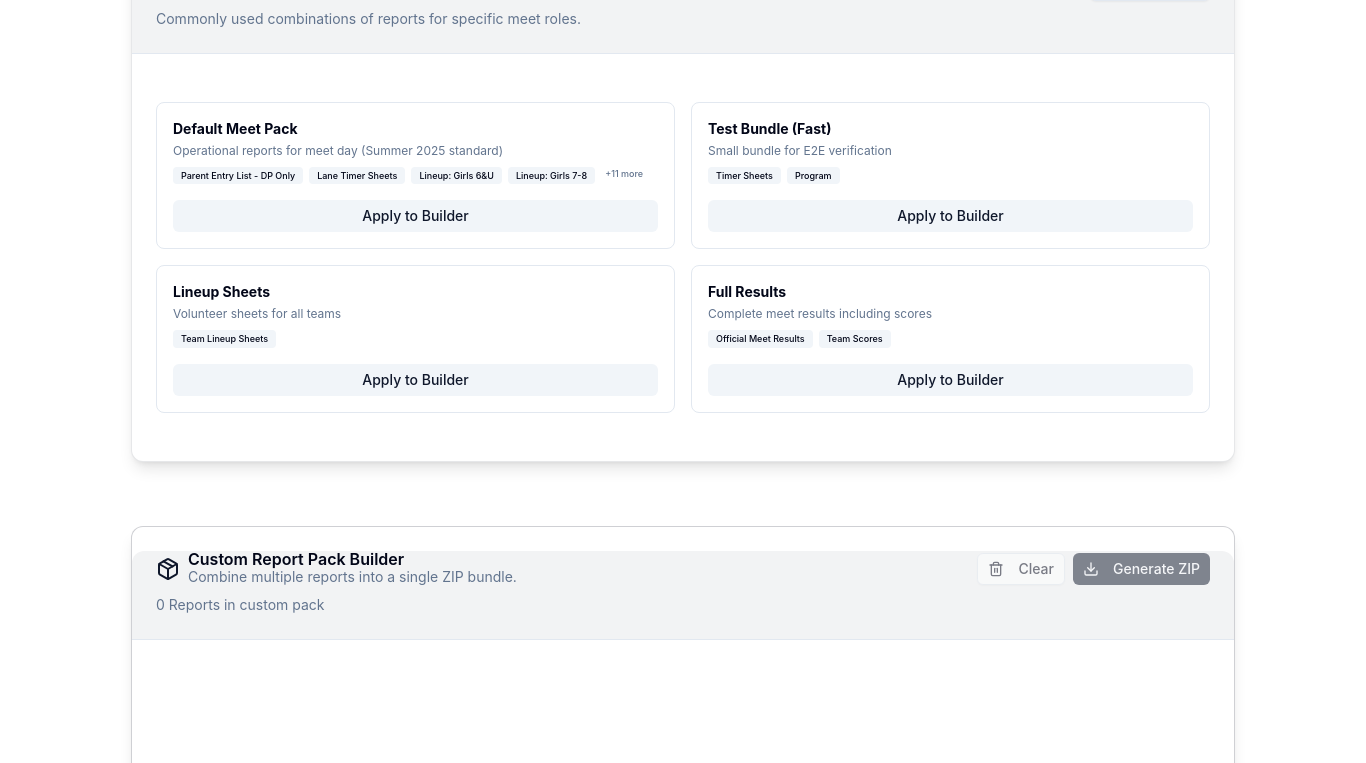
Test: ReportsManager › applies a preset to the builder
(page scrolled)
Click the button with test id "preset-apply-lineups". click: (416, 380)
box: [173,364,658,396]
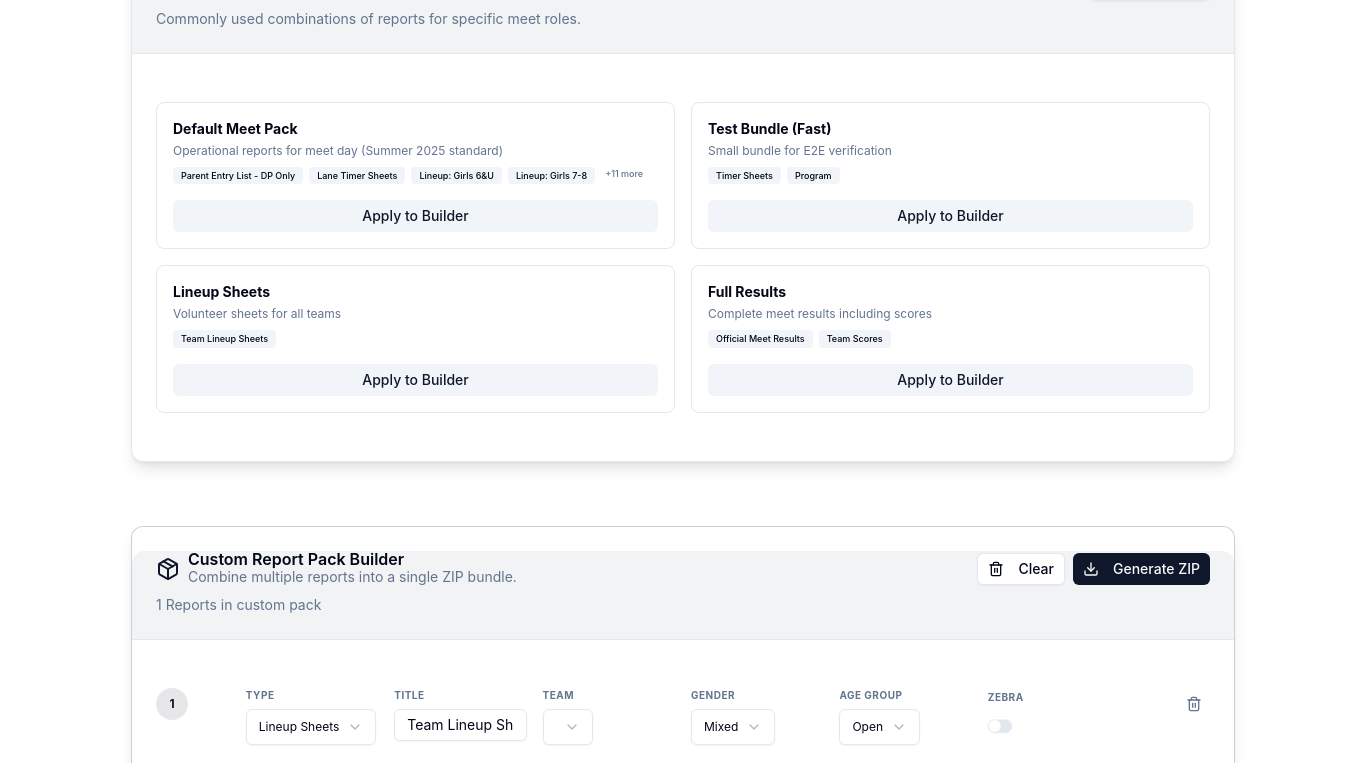
expect the text "1 Reports in custom pack" is shown: met, box [156,596,321,612]
